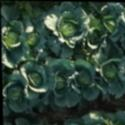cabbage: (55, 19, 76, 39), (3, 26, 21, 48), (100, 16, 116, 34), (7, 87, 22, 105), (28, 70, 42, 86), (78, 68, 90, 86), (51, 76, 66, 90), (110, 121, 125, 125)
